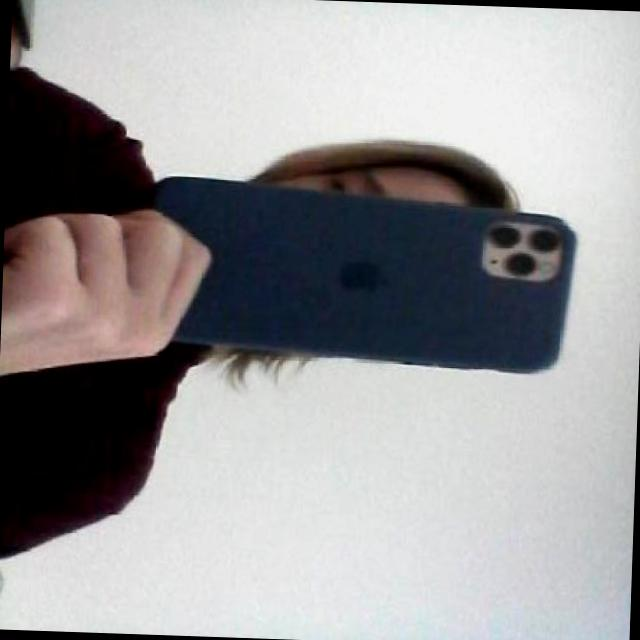lens_back: (524, 224, 563, 255), (488, 224, 521, 250), (502, 252, 536, 277)
phone: (124, 179, 578, 386)
